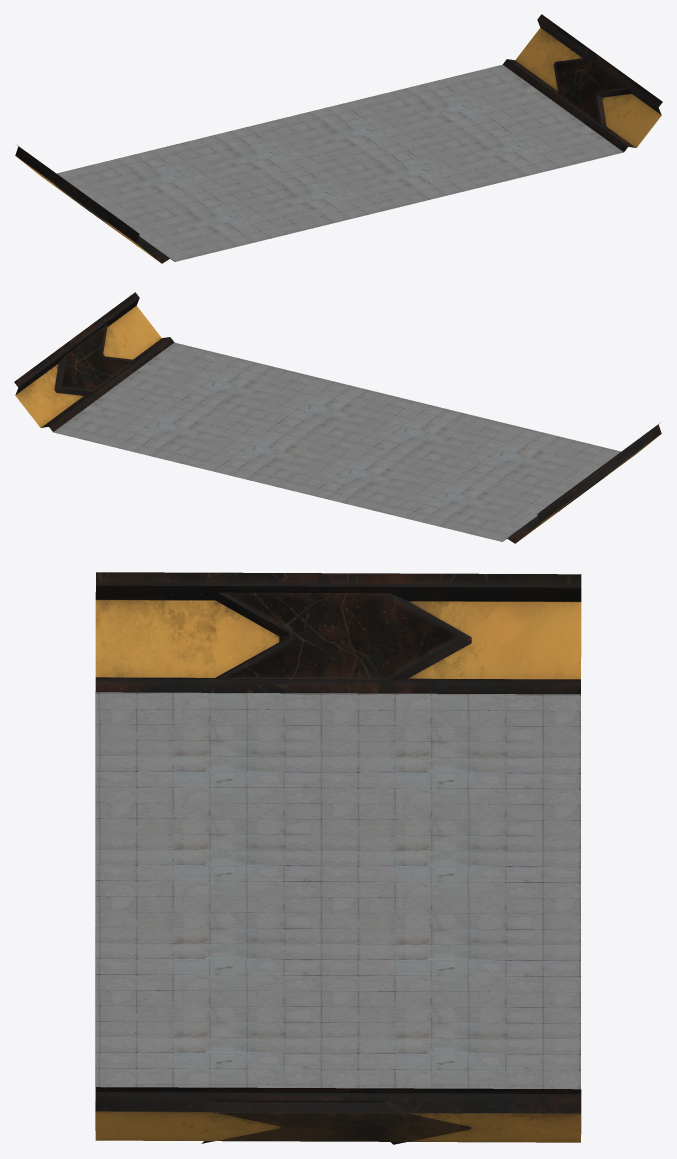
Rendered from Game.Track.Section.001.glb.
The picture shows the model from 3 angles, top to bottom: view 1: azimuth 30°, elevation 25°; view 2: azimuth 150°, elevation 25°; view 3: azimuth 270°, elevation 25°; orthographic projection. The views are drawn at different scales.
Visible parts, largest first — view 1: Plane.002; view 2: Plane.002; view 3: Plane.002.
Part boxes in pixels (x1,y1,x2,y2): Plane.002: [15, 14, 662, 263]; Plane.002: [14, 292, 661, 543]; Plane.002: [95, 572, 581, 1144].
Bounding box in the file's own units: 6.01 × 0.4657 × 2.38.
Materials: 1 (1 with a texture image).
